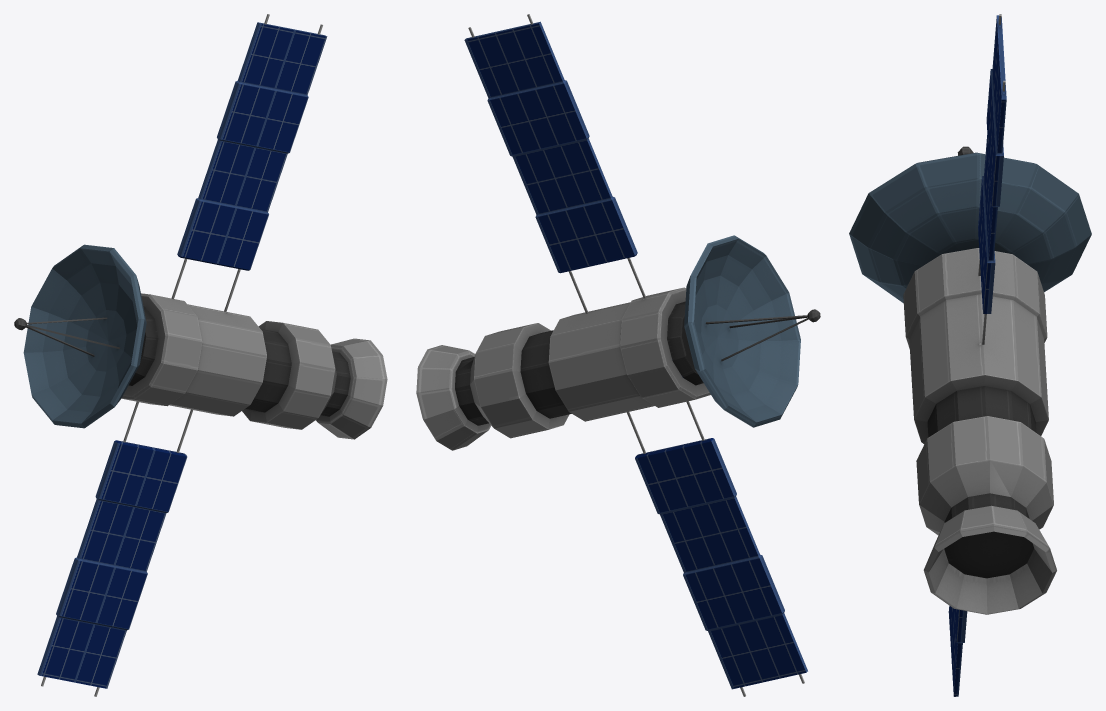
The model's file is satellite.glb.
3 views of the same model, side by side, from view 1: azimuth 30°, elevation 25°; view 2: azimuth 150°, elevation 25°; view 3: azimuth 270°, elevation 25° (orthographic). The views are drawn at different scales.
Parts seen in each view (by area): view 1: satellite; view 2: satellite; view 3: satellite.
Boxes of the visible parts, x1=… form: satellite: x1=14, y1=14, x2=387, y2=696; satellite: x1=416, y1=14, x2=820, y2=696; satellite: x1=849, y1=14, x2=1091, y2=696.
Size of the model in its own units: 22.85 by 37.04 by 10.17.
Materials: 1 (1 with a texture image).
